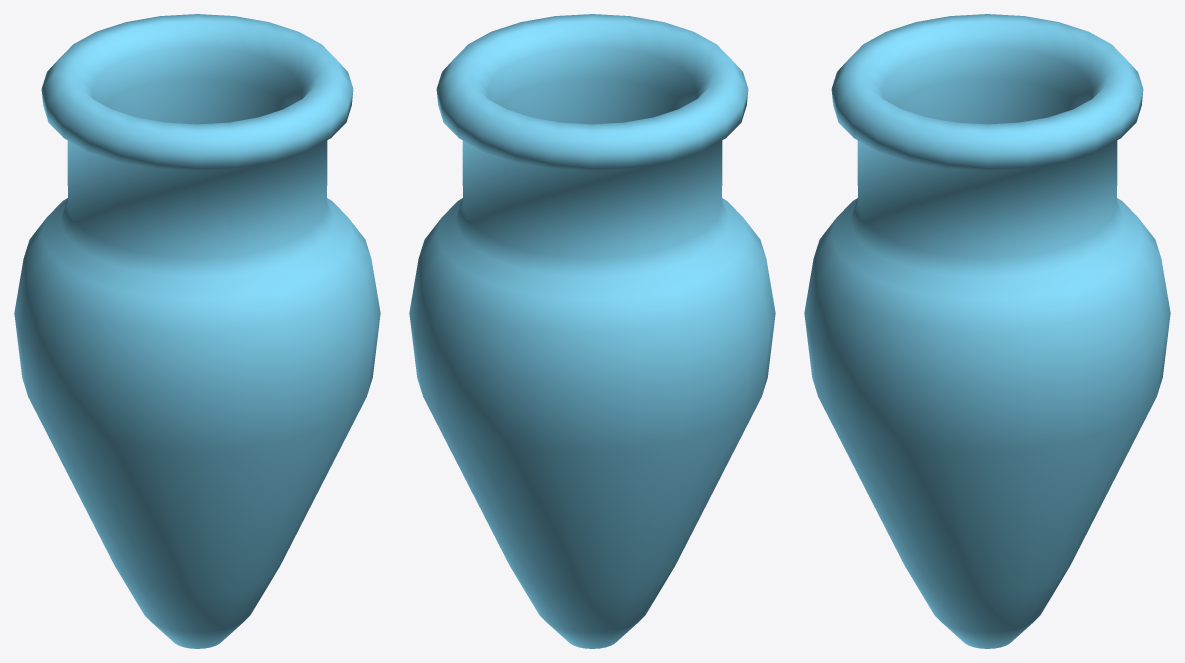
The model's file is Flask, Pear Shaped, Wide Mouth.fbx.
3 renders of one model, left to right at view 1: azimuth 30°, elevation 25°; view 2: azimuth 150°, elevation 25°; view 3: azimuth 270°, elevation 25°, orthographic.
Visible parts, largest first — view 1: Flask, Pear Shaped, Wide Mouth_LOD0; view 2: Flask, Pear Shaped, Wide Mouth_LOD0; view 3: Flask, Pear Shaped, Wide Mouth_LOD0.
Boxes of the visible parts, bbox=[...] form: Flask, Pear Shaped, Wide Mouth_LOD0: bbox=[14, 14, 380, 648]; Flask, Pear Shaped, Wide Mouth_LOD0: bbox=[409, 14, 775, 648]; Flask, Pear Shaped, Wide Mouth_LOD0: bbox=[804, 14, 1170, 648].
Size of what is drawn, in the model's own units: 0.4179 by 0.7204 by 0.4179.
